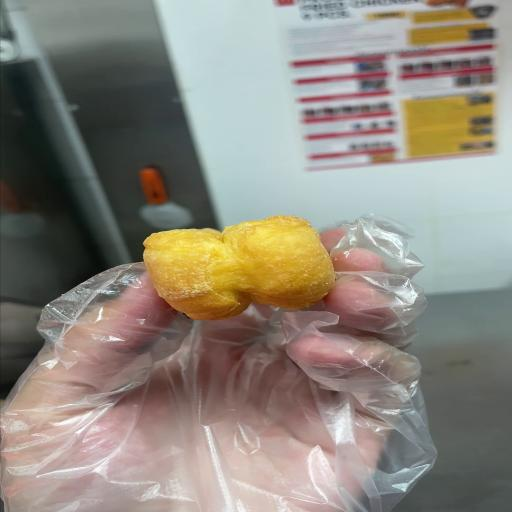brand_golden_good: (144, 216, 335, 320)
